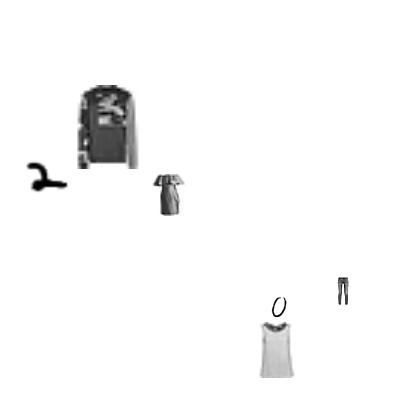0: (264, 293, 292, 321)
2: (15, 151, 71, 207)
Dress: (147, 174, 189, 216)
Pullover: (66, 85, 150, 169)
Shirt: (248, 322, 304, 378)
Trouser: (329, 277, 357, 305)
